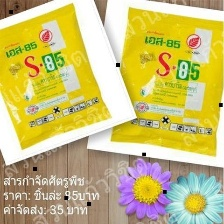insecticide: (0, 0, 140, 170), (83, 0, 223, 169)
